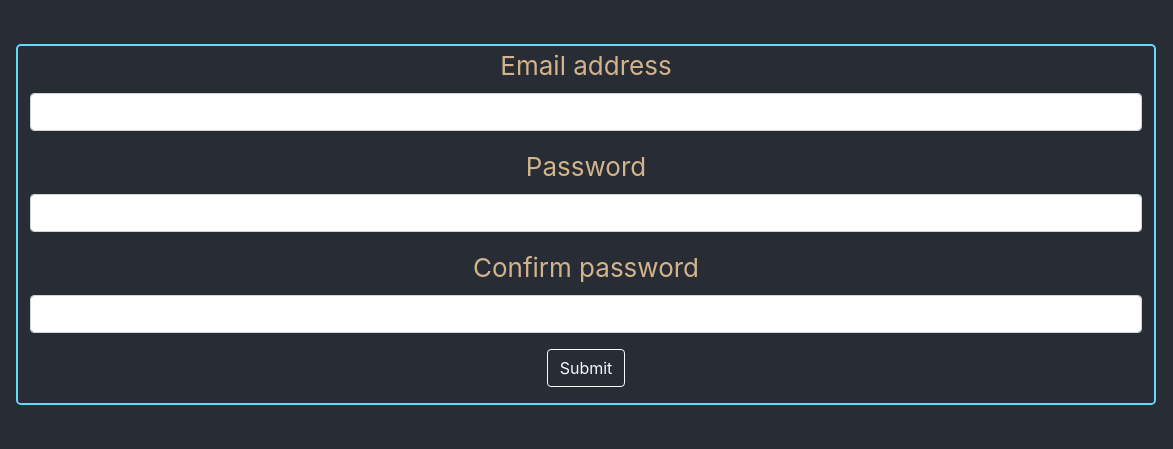
it: testing the App component › passwords should match
Type "right@gmail.com" into the field labelled "Email address".
click(586, 112); type("right@gmail.com")  # box [30, 92, 1142, 130]
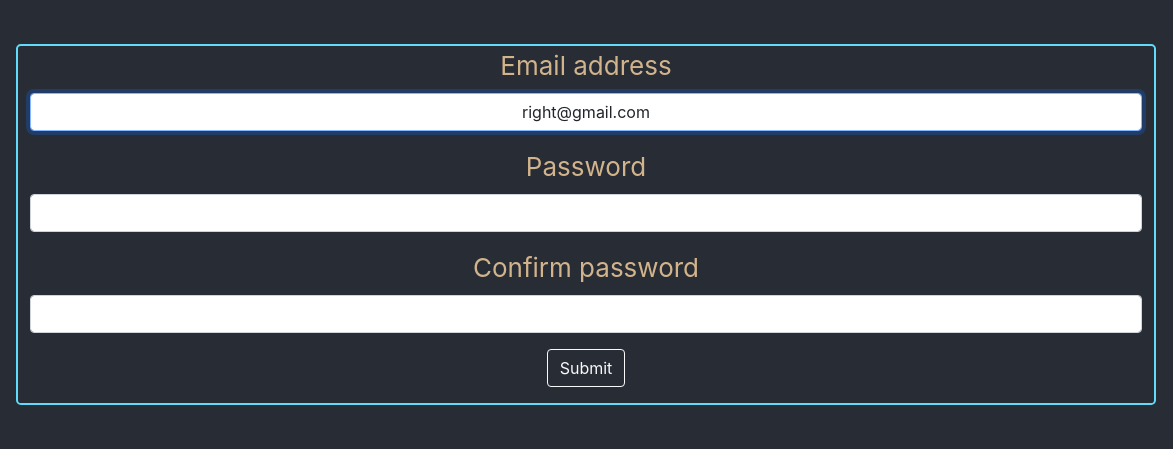
Type "1234" into the password field labelled "Password".
click(586, 212); type("1234")  # box [30, 194, 1142, 232]
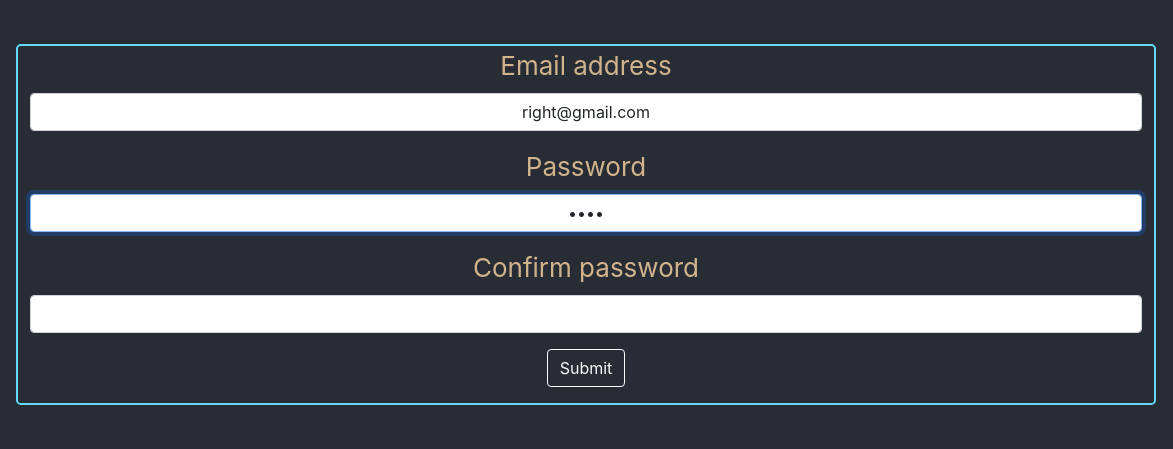
Type "1235" into the password field labelled "Confirm password".
click(586, 314); type("1235")  # box [30, 294, 1142, 332]
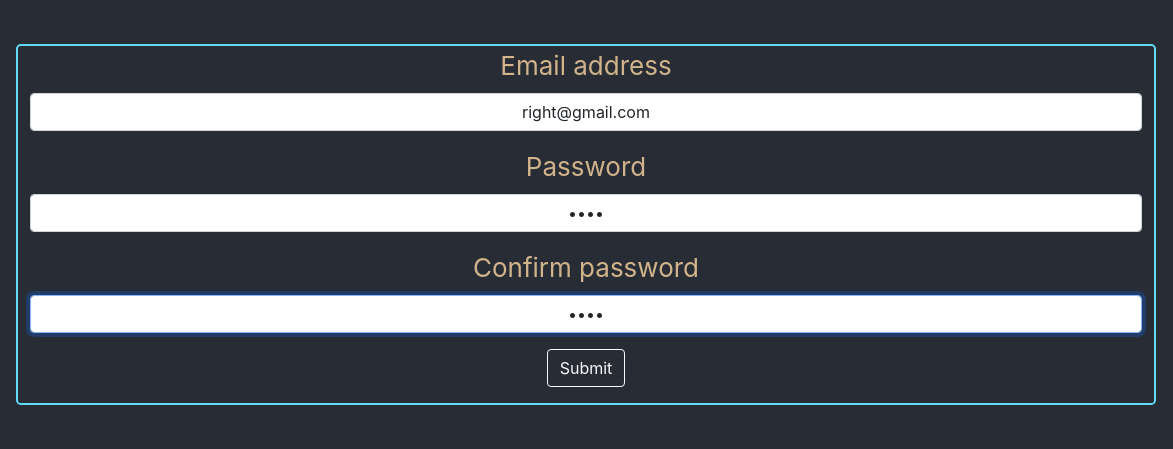
Click the button "Submit".
click(586, 368)  # box [547, 348, 625, 386]
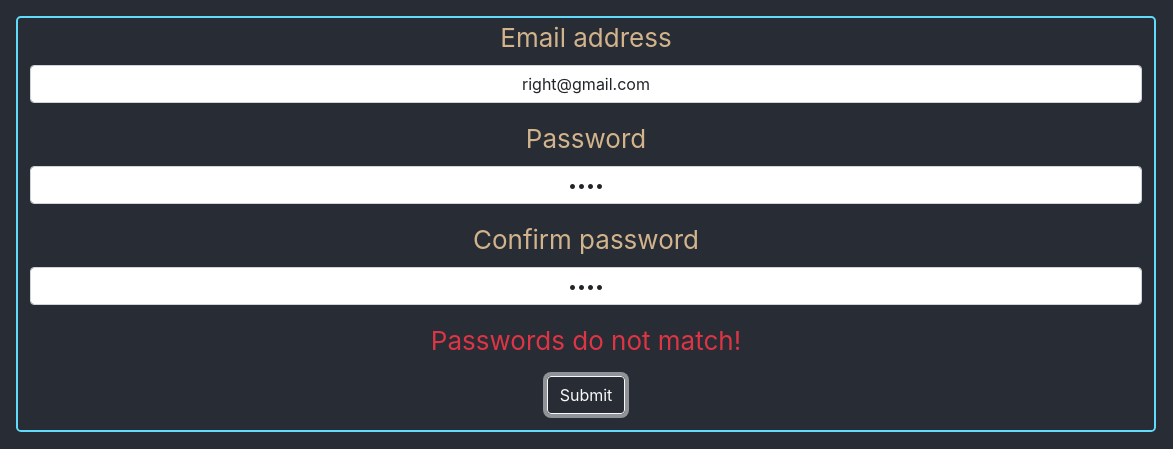
expect the text "Passwords do not match!" is shown: met, box [431, 325, 741, 356]
